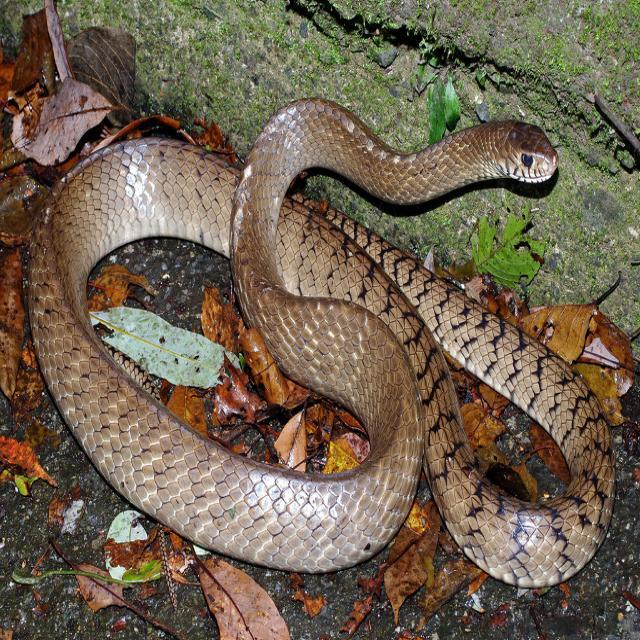Snake: (26, 94, 617, 588)
